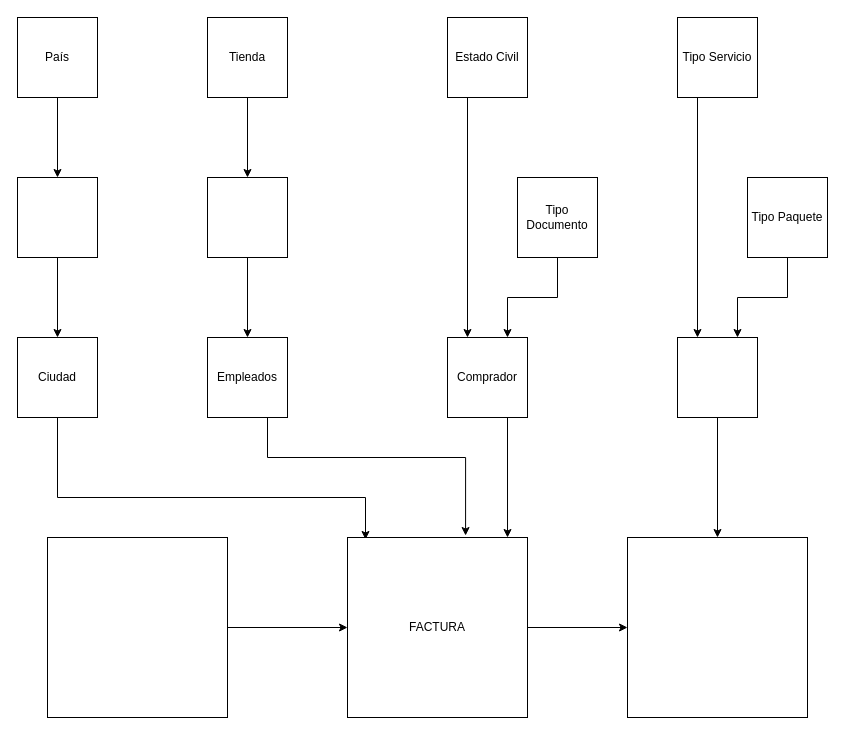
This 845x735 diagram has some shape labels left out. Each missing label, with the centre of its shape:
Departamento: (x=57, y=217)
DETALLE FACTURA: (x=717, y=627)
ESTADO FACTURA: (x=137, y=627)
Sedes: (x=247, y=217)
Servicio: (x=717, y=377)
